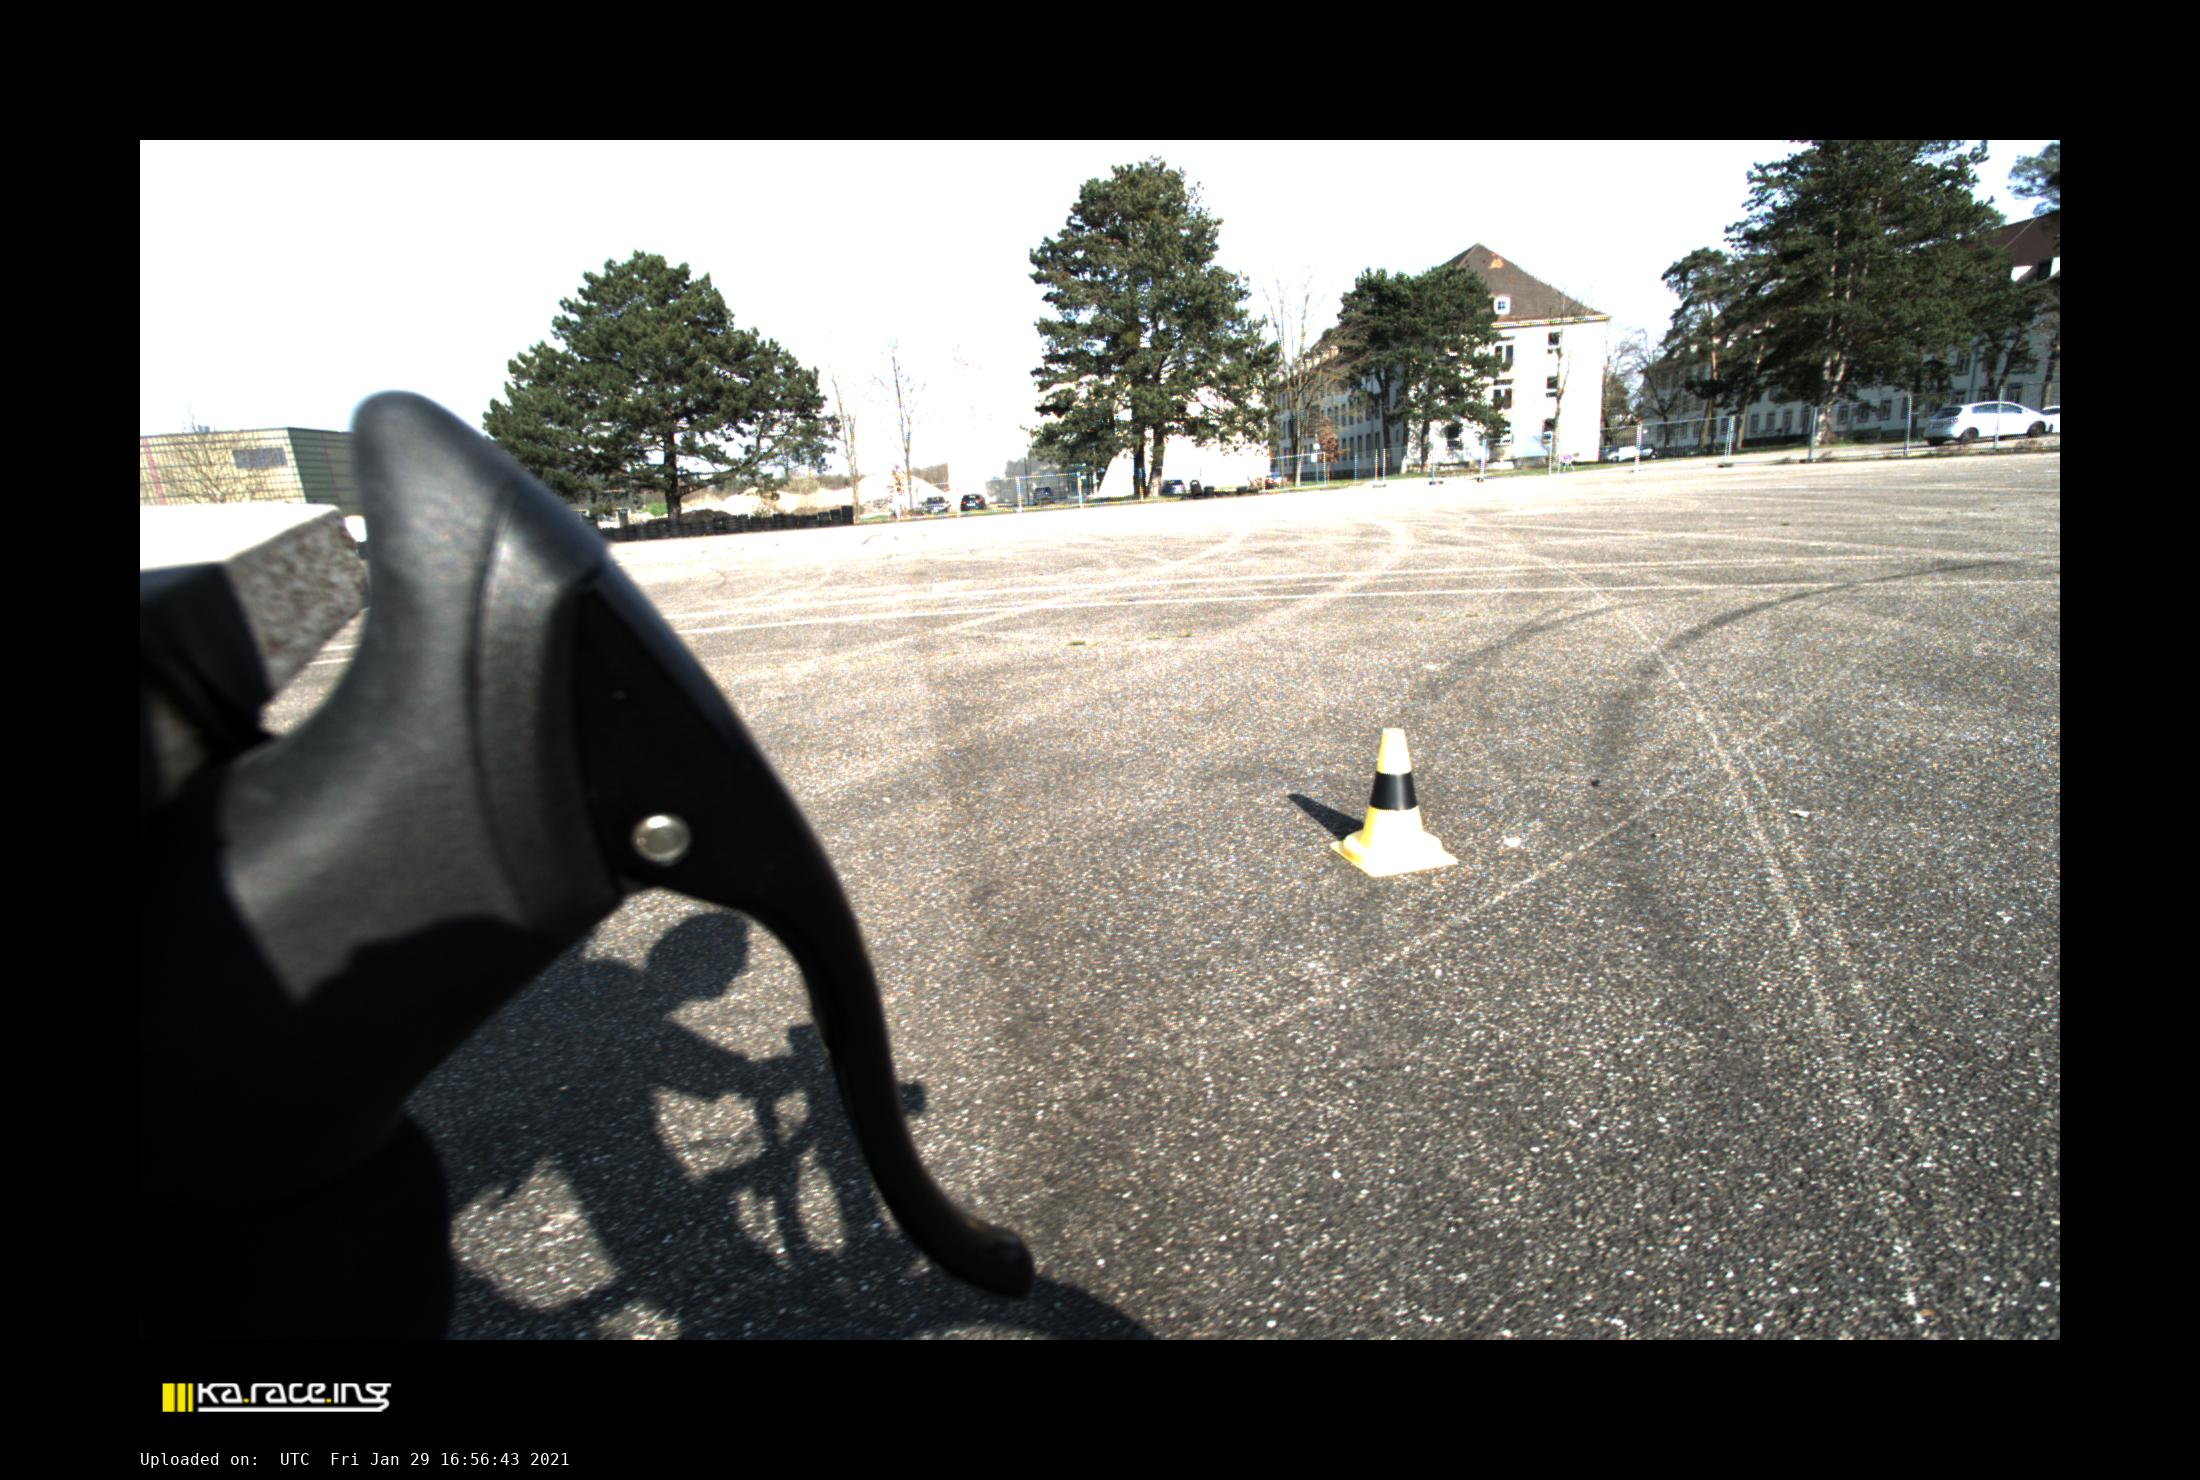yellow_cone: (1330, 728, 1458, 877)
